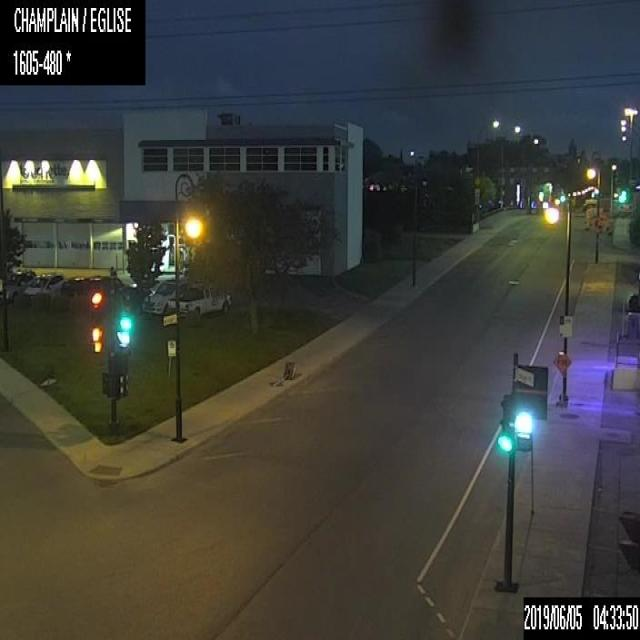construction: (552, 346, 570, 404), (268, 361, 295, 388), (590, 213, 604, 233)
vehicle: (167, 283, 230, 319), (141, 278, 190, 314), (121, 281, 155, 315), (24, 271, 65, 299), (1, 268, 36, 298), (87, 275, 125, 295), (61, 274, 87, 296)
